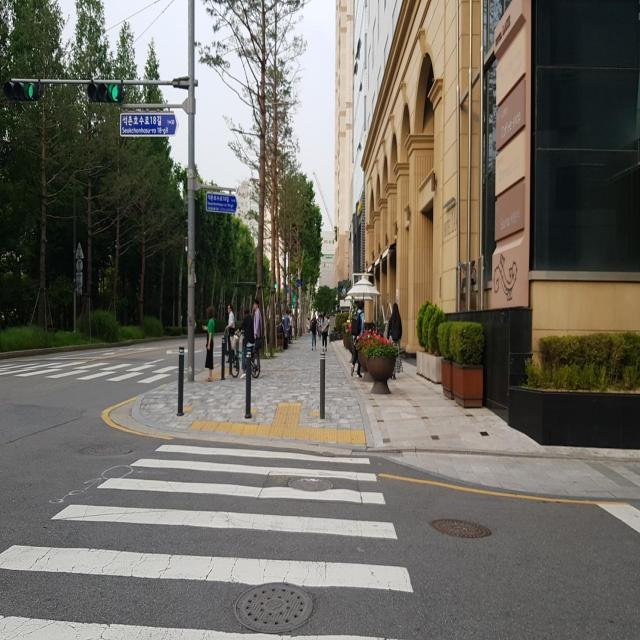횡단보도: (0, 438, 416, 640), (0, 356, 189, 386)
